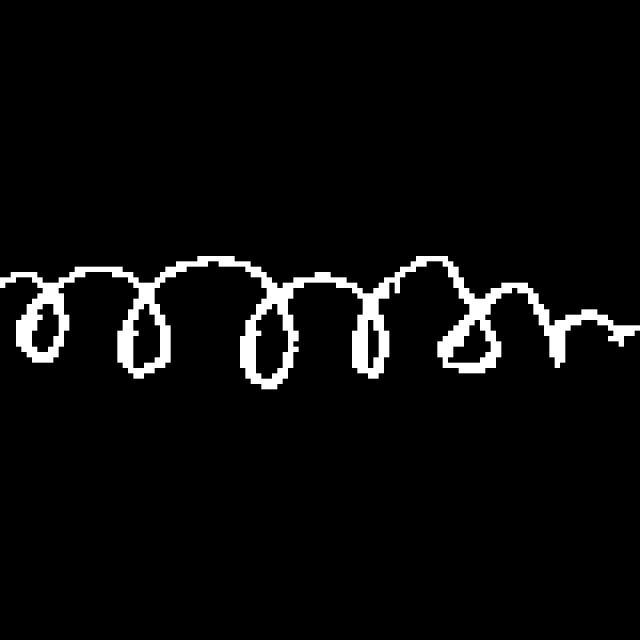inductor: (1, 229, 616, 426)
